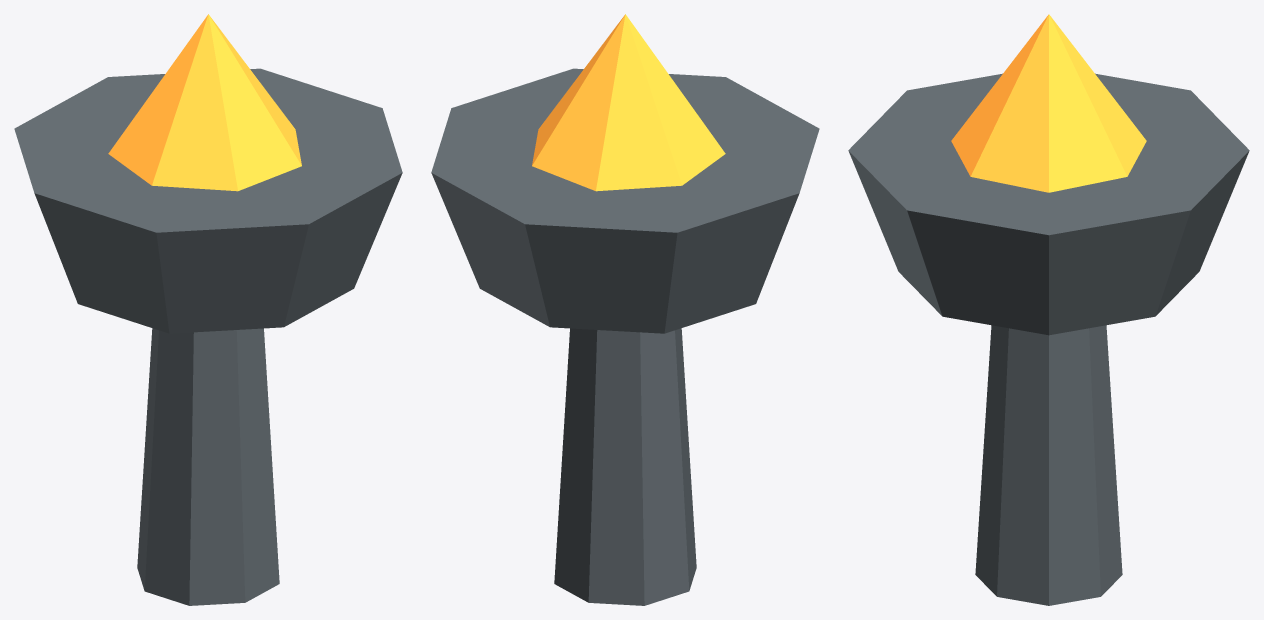
Rendered from ruin_brazier.glb.
3 renders of one model, left to right at view 1: azimuth 30°, elevation 25°; view 2: azimuth 150°, elevation 25°; view 3: azimuth 270°, elevation 25°, orthographic.
Visible parts, largest first — view 1: ruin_brazier_Mesh; view 2: ruin_brazier_Mesh; view 3: ruin_brazier_Mesh.
Boxes of the visible parts, x1,y1,x2,y2 form: ruin_brazier_Mesh: (14,14,402,605); ruin_brazier_Mesh: (431,14,819,605); ruin_brazier_Mesh: (848,14,1249,605).
Bounding box in the file's own units: 1.2 × 1.85 × 1.2.
